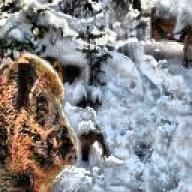boar: (0, 51, 80, 192)
